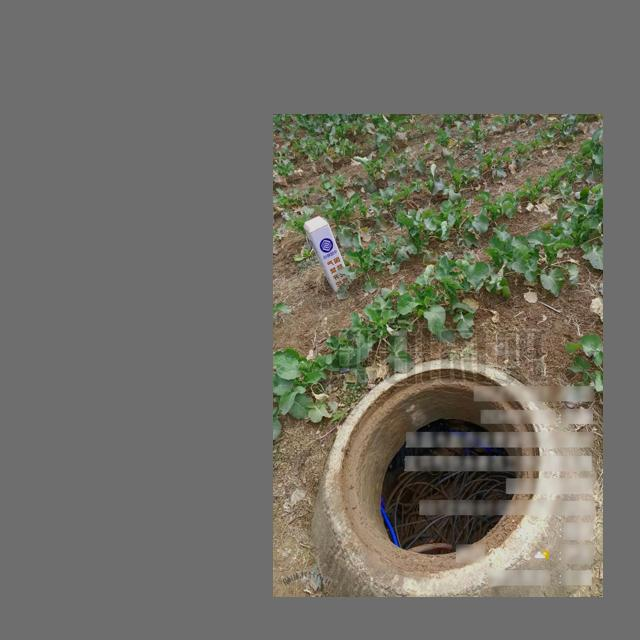lose: (321, 362, 558, 597)
